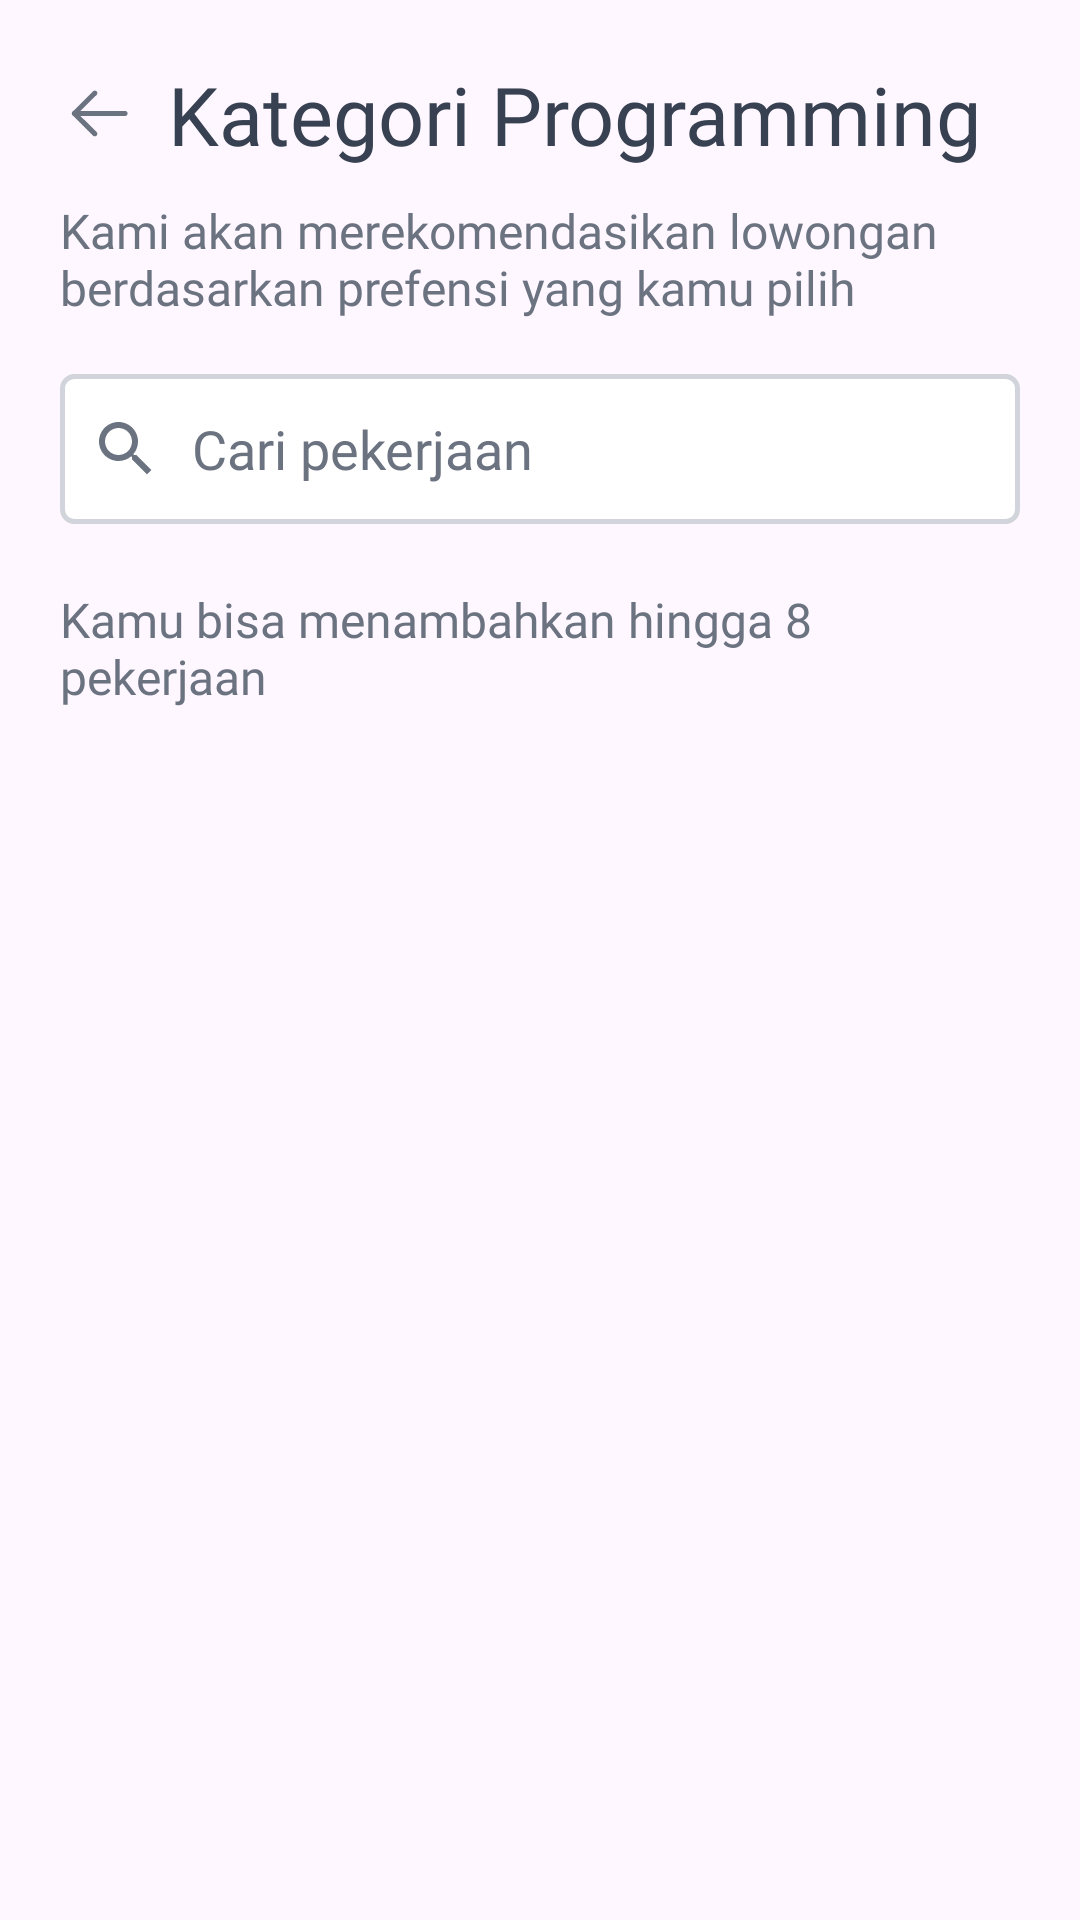

Point at icon controls on the screen. Image size 1080 × 1920, points as (x,y).
arrow left: (99,113)
